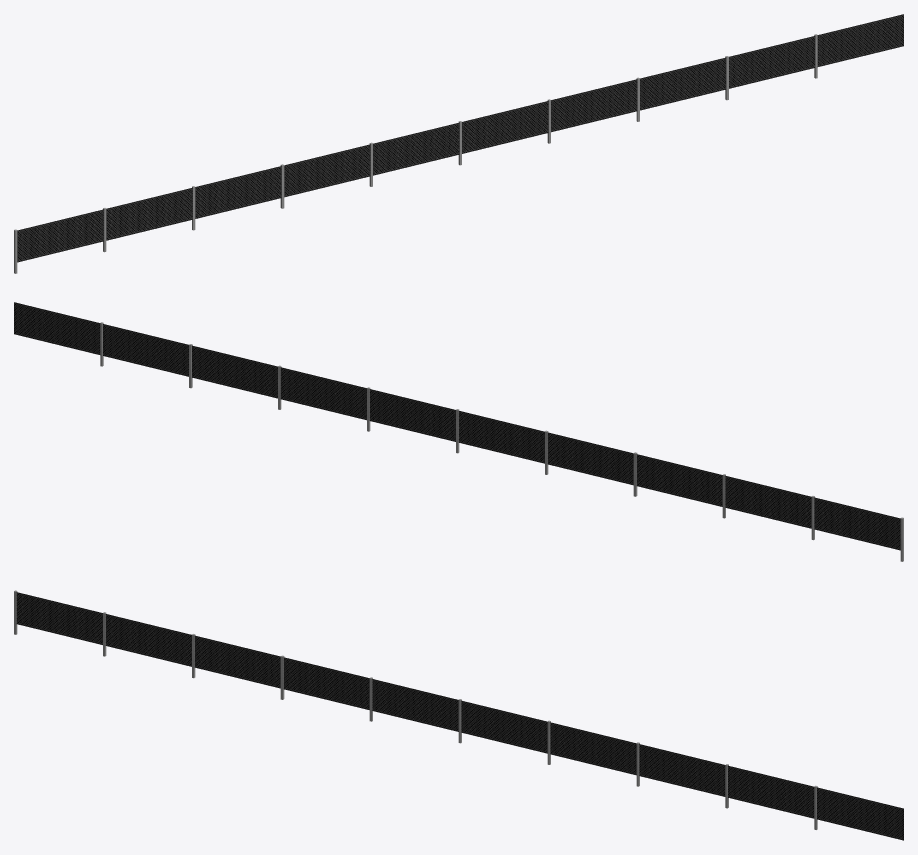
The model's file is fence-chainlink-2wire-10s-cbj_LOD00.gltf.
The picture shows the model from 3 angles, top to bottom: view 1: azimuth 30°, elevation 25°; view 2: azimuth 150°, elevation 25°; view 3: azimuth 330°, elevation 25°; orthographic projection.
Parts seen in each view (by area): view 1: post; view 2: post; view 3: post.
Part boxes in pixels (x1,y1,x2,y2): post: [14, 14, 903, 273]; post: [14, 302, 903, 561]; post: [14, 590, 903, 840].
Size of the model in its own units: 28.7 by 1.33 by 0.07.
